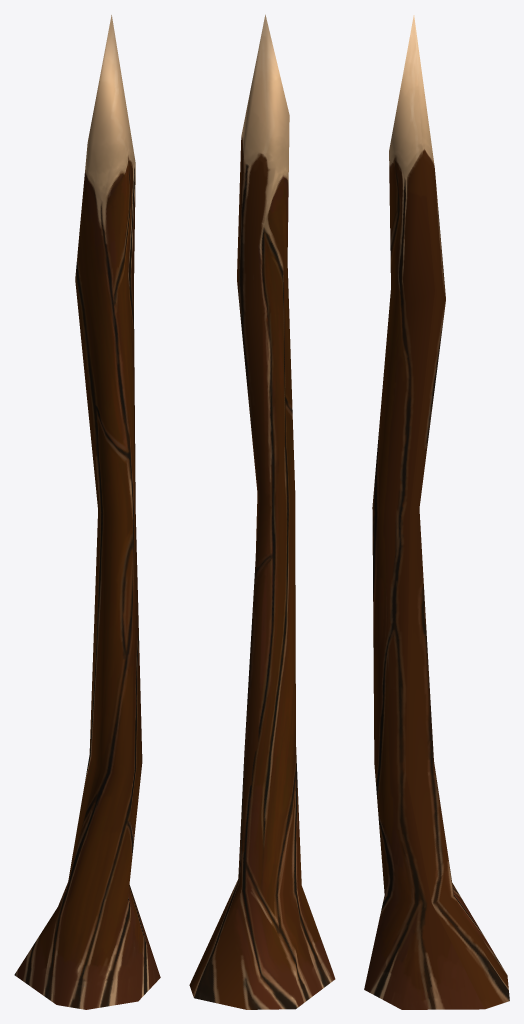
The model's file is FenceSpikeSides.fbx.
3 views of the same model, side by side, from view 1: azimuth 30°, elevation 25°; view 2: azimuth 150°, elevation 25°; view 3: azimuth 270°, elevation 25° (orthographic). The views are drawn at different scales.
Visible parts, largest first — view 1: FenceSpike_Side; view 2: FenceSpike_Side; view 3: FenceSpike_Side.
Boxes of the visible parts, x1,y1,x2,y2 form: FenceSpike_Side: (14, 15, 160, 1009); FenceSpike_Side: (189, 14, 335, 1009); FenceSpike_Side: (364, 15, 509, 1009).
Bounding box in the file's own units: 0.4926 × 4.26 × 0.5774.
